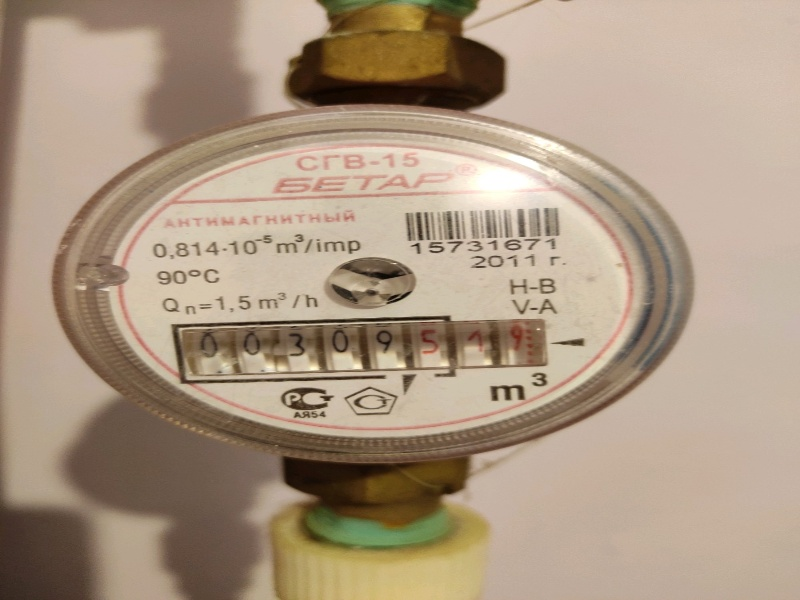meter: (178, 320, 533, 366)
